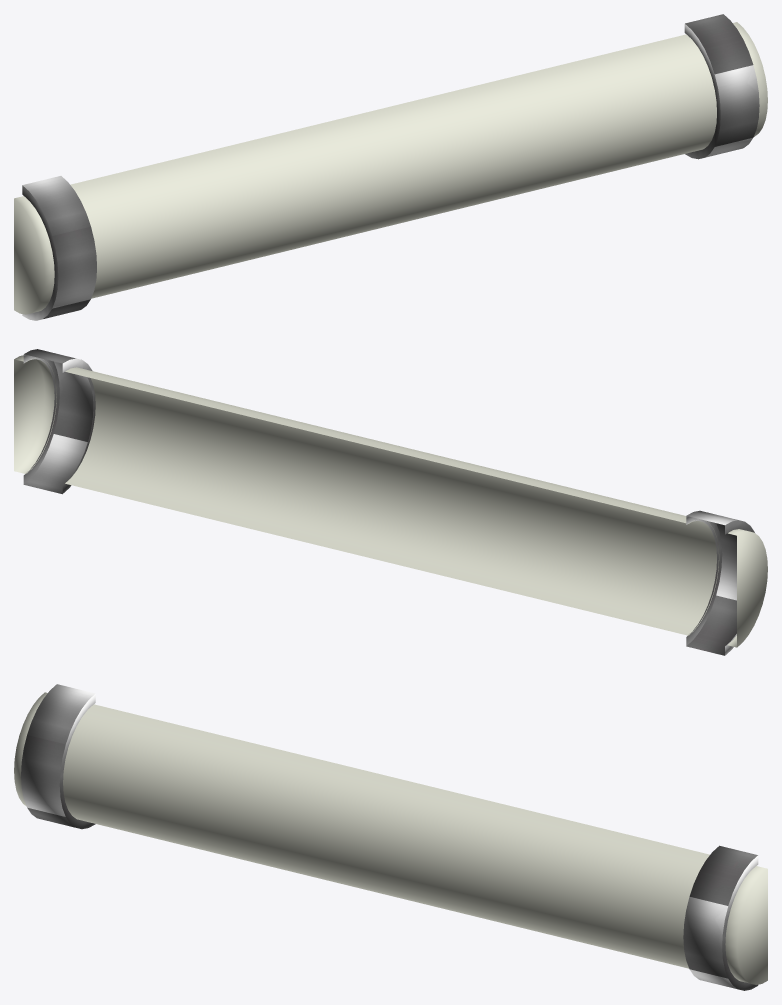
File: Neon Pipe LightNEW.fbx
3 views of the same model, one above another, from view 1: azimuth 30°, elevation 25°; view 2: azimuth 150°, elevation 25°; view 3: azimuth 330°, elevation 25° (orthographic).
Visible parts, largest first — view 1: Light, Holders; view 2: Light, Holders; view 3: Light, Holders.
Boxes of the visible parts, bbox=[...] form: Light: bbox=[14, 22, 767, 314]; Holders: bbox=[22, 14, 759, 320]; Light: bbox=[14, 355, 767, 647]; Holders: bbox=[23, 349, 754, 655]; Light: bbox=[14, 692, 767, 984]; Holders: bbox=[21, 684, 758, 990].
Bounding box in the file's own units: 59.41 × 10.26 × 5.13.
